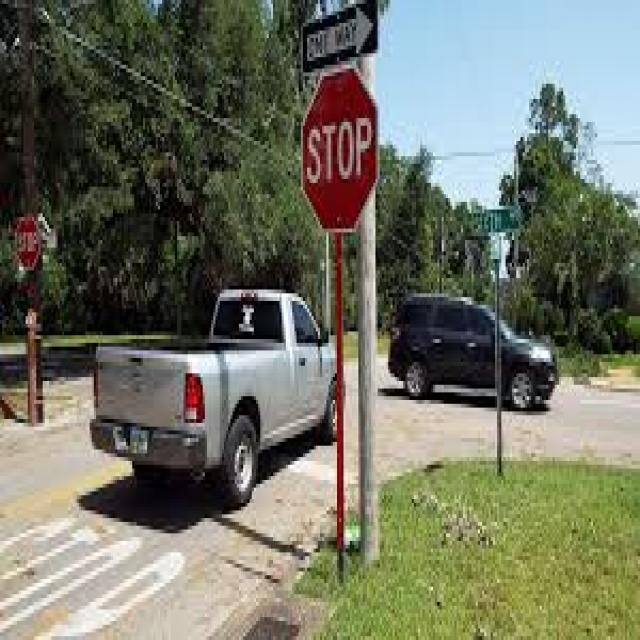stop-sign: (283, 30, 396, 221)
